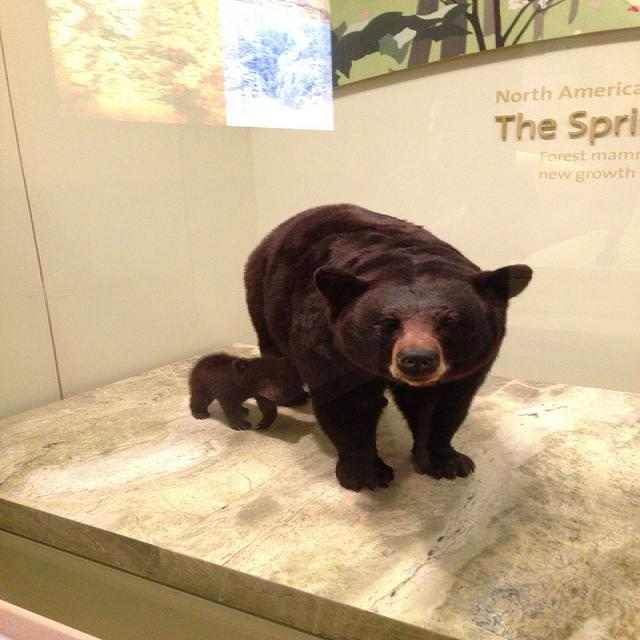bear: (243, 206, 532, 494), (189, 352, 308, 433)
